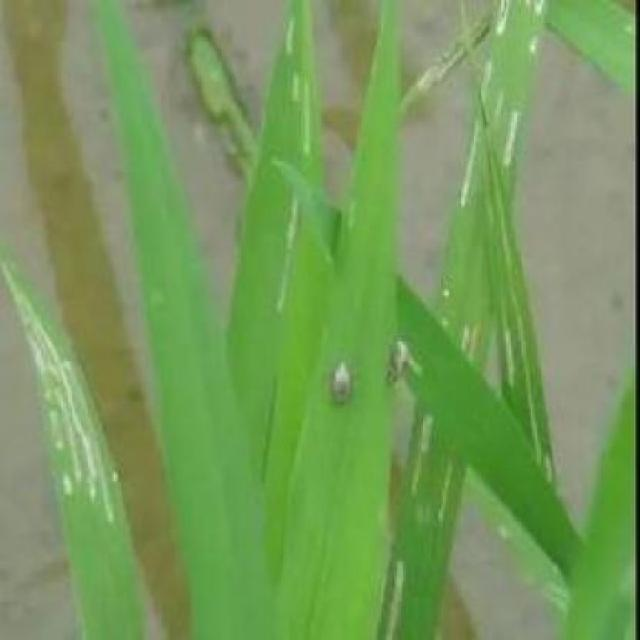rice-bug: (383, 334, 412, 388), (329, 357, 357, 403)
